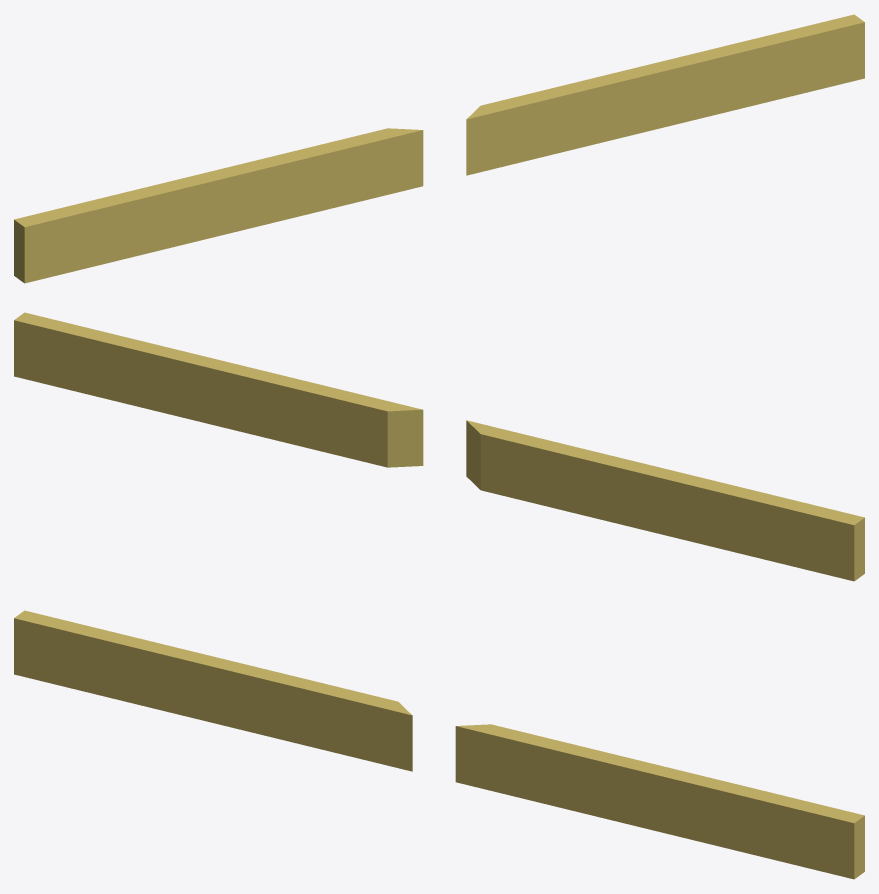
File: PurgatoryArena.fbx
3 views of the same model, one above another, from view 1: azimuth 30°, elevation 25°; view 2: azimuth 150°, elevation 25°; view 3: azimuth 330°, elevation 25° (orthographic).
Visible parts, largest first — view 1: Cube.004; view 2: Cube.004; view 3: Cube.004.
Boxes of the visible parts, box(x1,y1,x2,y2) form: Cube.004: box(14, 14, 864, 283); Cube.004: box(14, 312, 864, 581); Cube.004: box(14, 610, 864, 879).
Bounding box in the file's own units: 182447 × 11664 × 4000.
